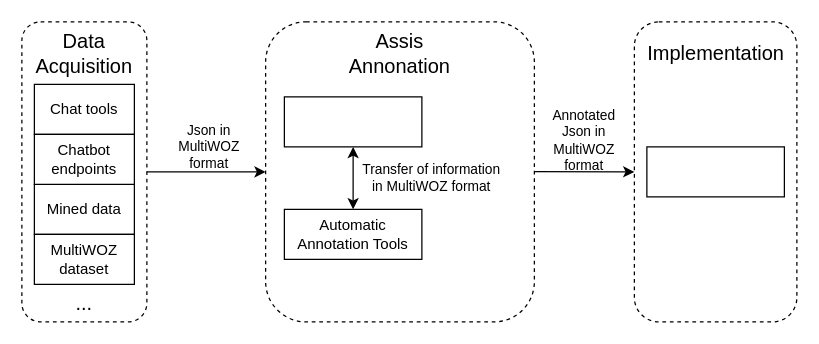
Some shapes in this 819 by 344 pixel diagram are drawn without their labels. The shapes that lost their labels are listed below. From the top down, each one's box as (x1, y1, x2, y2) in pixels, then its label:
(283, 96, 422, 147): Manual Annotation Tools
(646, 146, 784, 197): AI Chatbots learning phase
